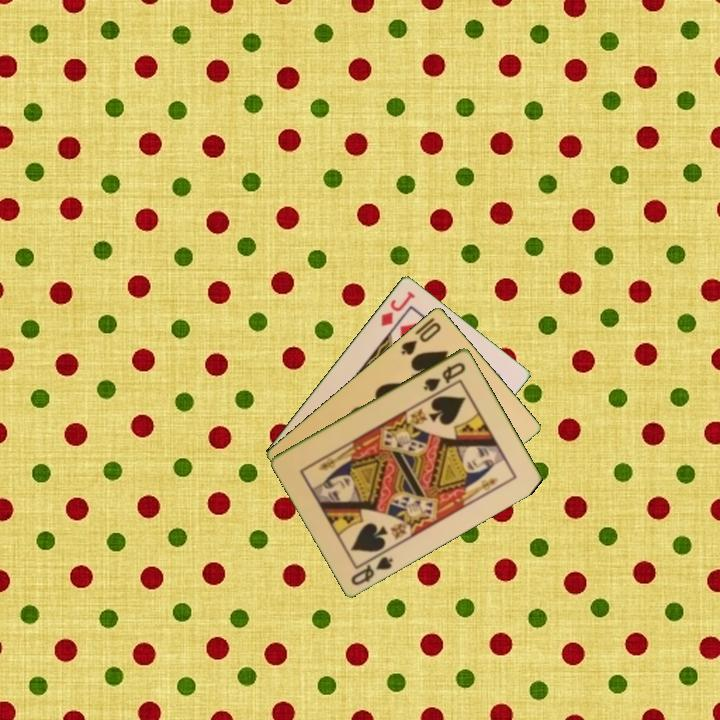10s: (398, 318, 444, 357)
Jd: (377, 287, 418, 329)
Qs: (347, 552, 396, 588), (420, 358, 468, 394)
